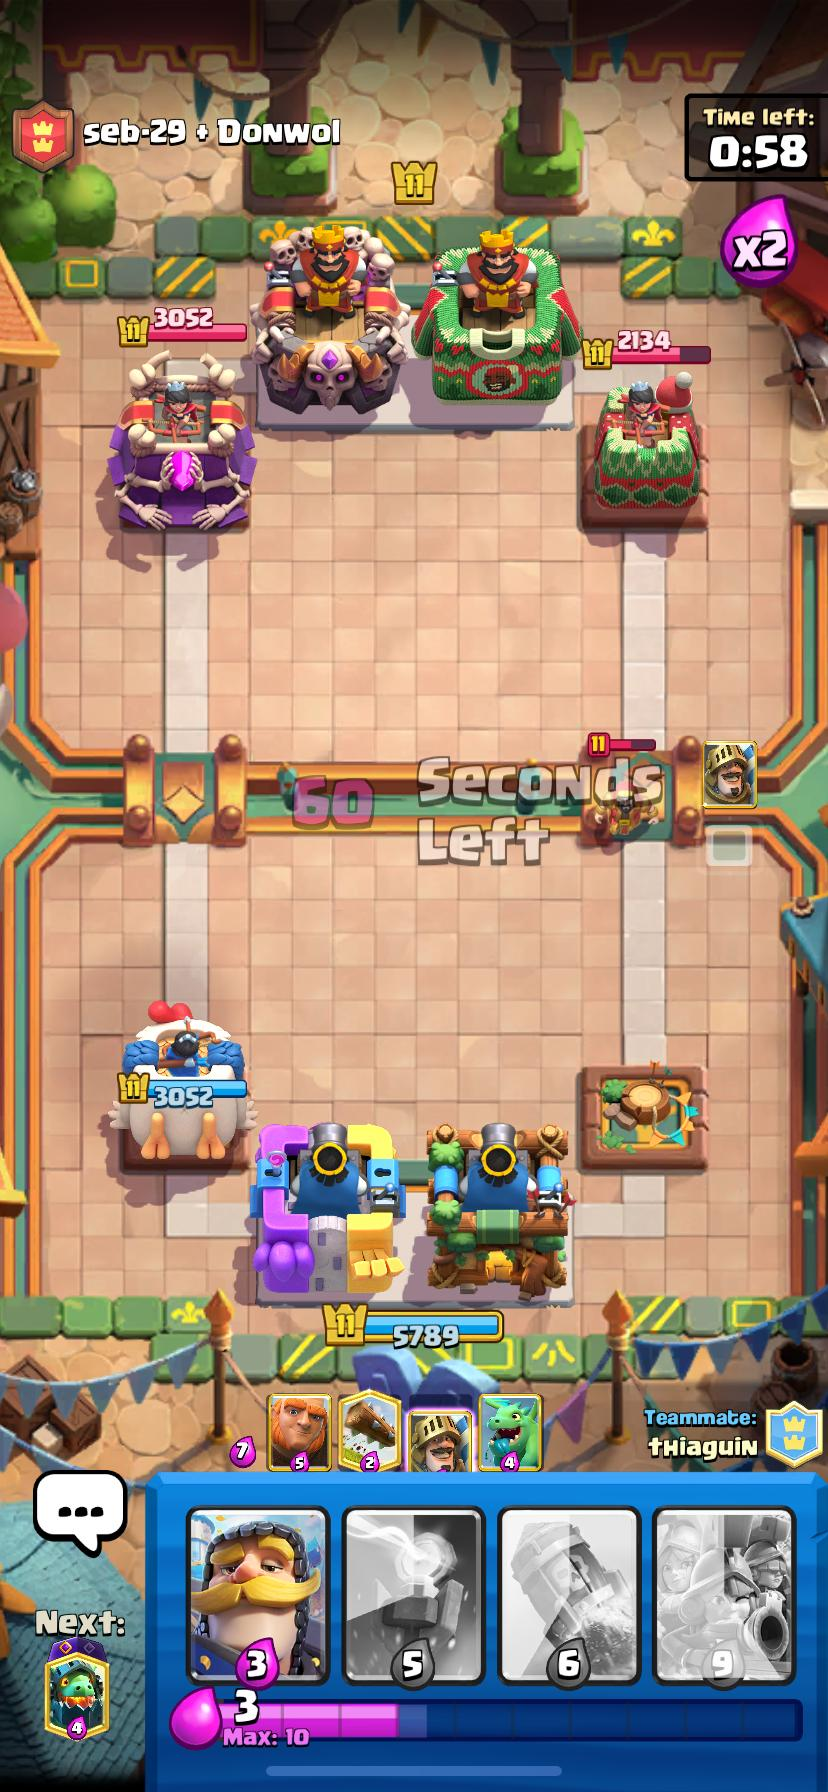EKingTower: (252, 223, 411, 414), (414, 227, 580, 402)
EWizard: (596, 781, 659, 835)
EnemyPrincessTower: (108, 355, 255, 531), (586, 371, 700, 521)
OwnKingTower: (253, 1123, 403, 1298), (427, 1123, 573, 1301)
OwnPrincessTower: (109, 1003, 255, 1160)
TowerDown: (580, 1063, 707, 1169)
